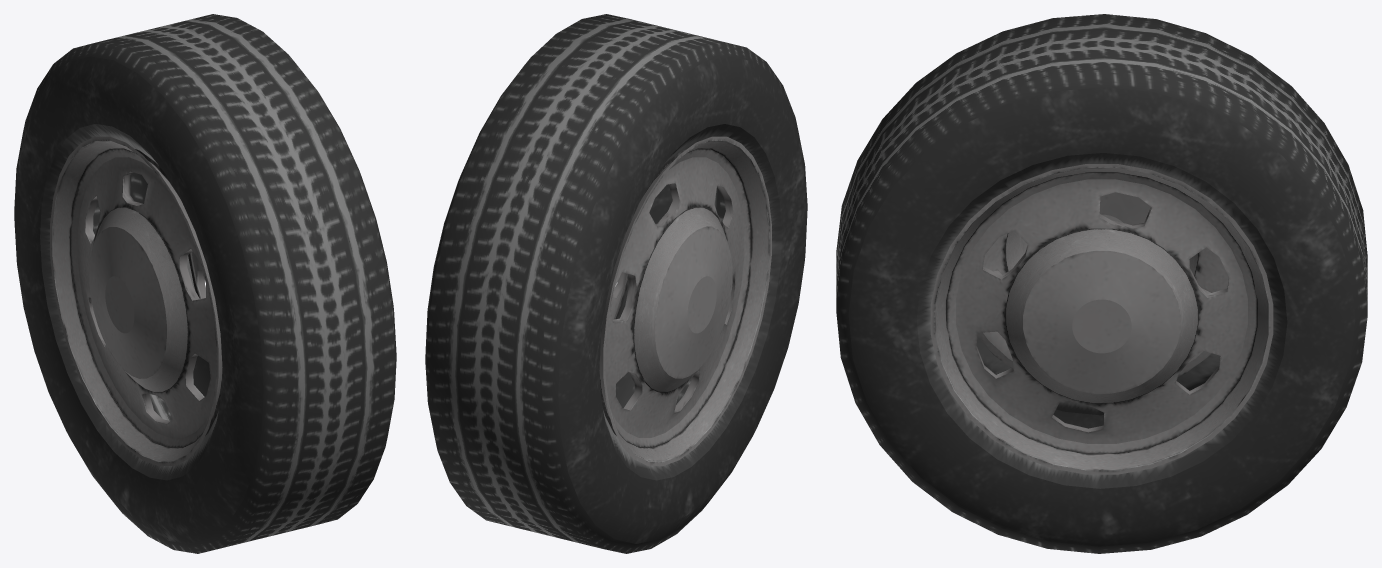
Rendered from Roda do carro.fbx.
3 renders of one model, left to right at view 1: azimuth 30°, elevation 25°; view 2: azimuth 150°, elevation 25°; view 3: azimuth 270°, elevation 25°, orthographic.
Visible parts, largest first — view 1: Pneu da frente.002; view 2: Pneu da frente.002; view 3: Pneu da frente.002.
Boxes of the visible parts, x1,y1,x2,y2 form: Pneu da frente.002: [14, 14, 396, 553]; Pneu da frente.002: [425, 14, 807, 553]; Pneu da frente.002: [836, 14, 1367, 553].
Bounding box in the file's own units: 25.39 × 67.19 × 67.19.
